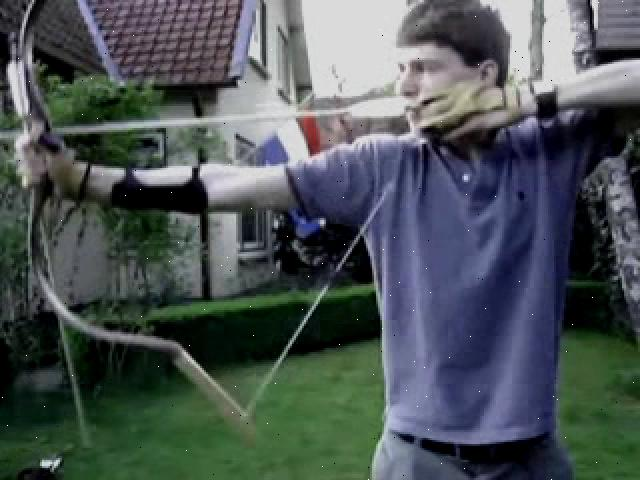P: (19, 4, 580, 474)
